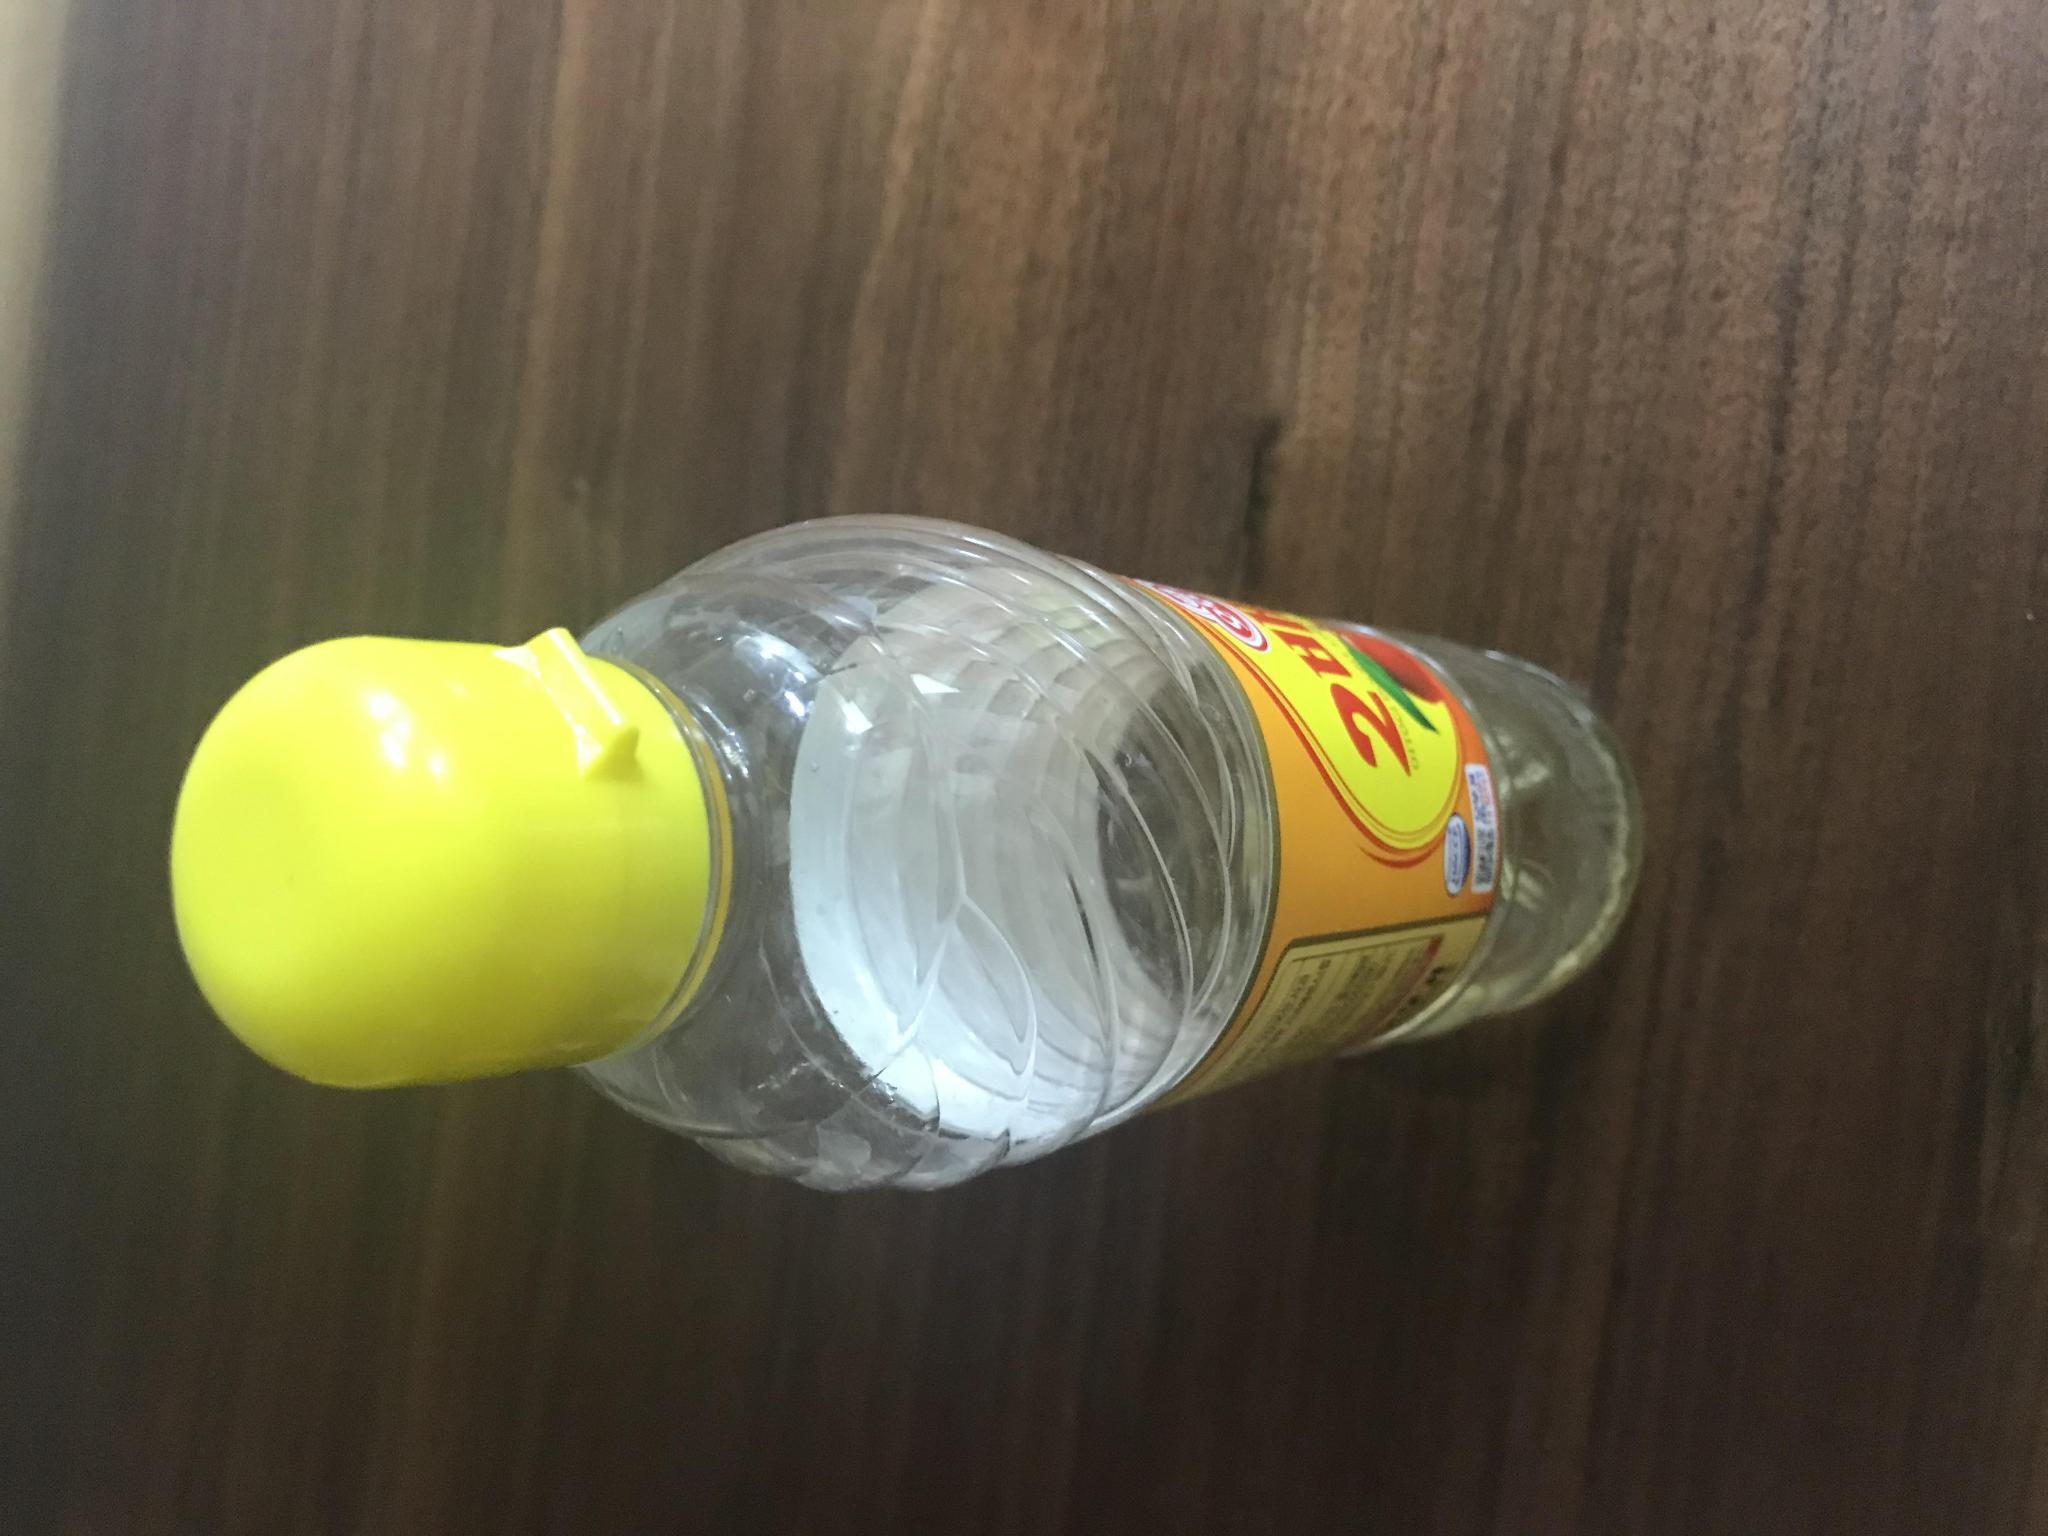bottle: (152, 484, 1671, 1221)
